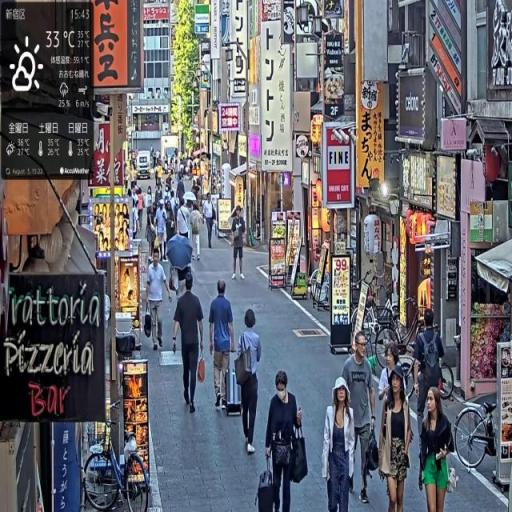person: (264, 369, 311, 512), (342, 332, 379, 507), (379, 369, 416, 512), (172, 272, 207, 416), (420, 384, 457, 512), (323, 377, 357, 512), (233, 308, 263, 457), (415, 307, 447, 436), (210, 277, 235, 411), (146, 248, 174, 353), (231, 204, 248, 281), (203, 194, 217, 248)
